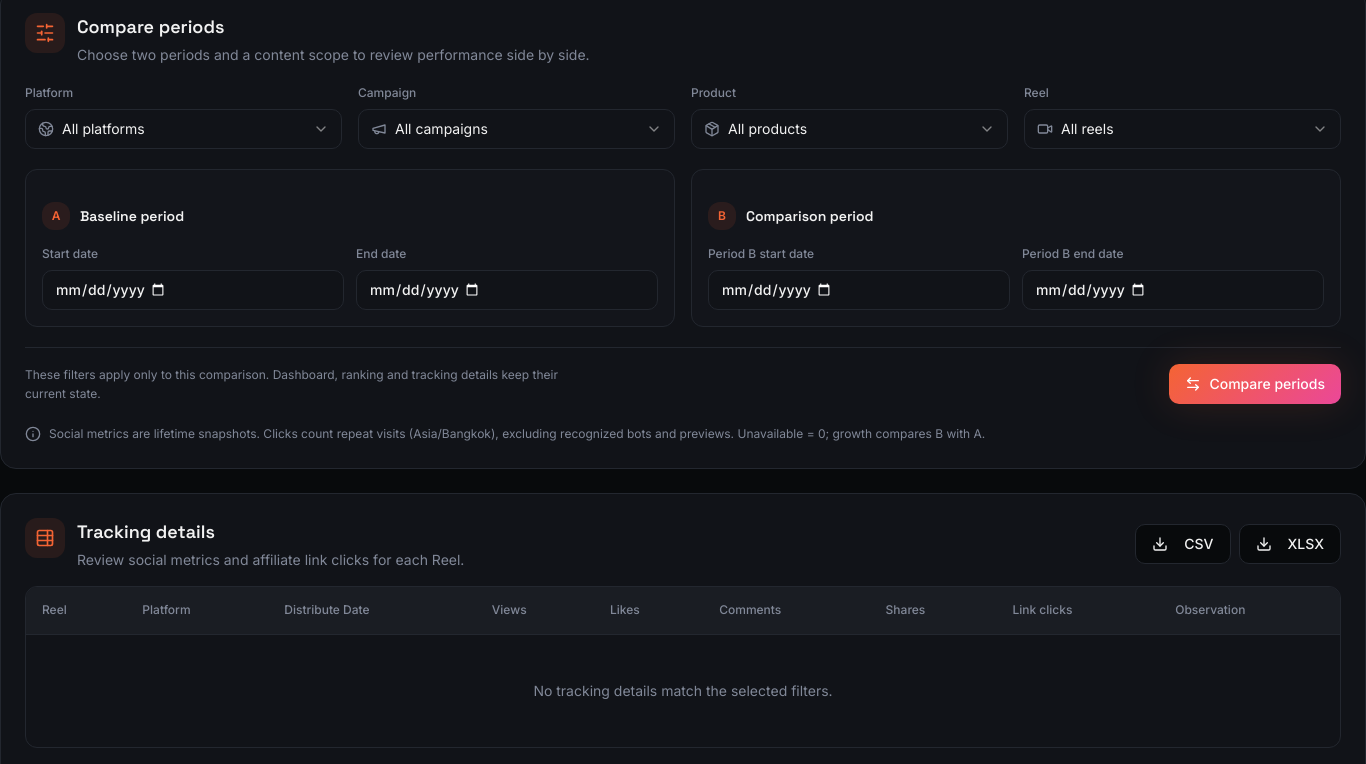
Test: validates both periods in the comparison filters before making a comparison request
This screenshot has width=1366, height=764.
(page scrolled)
Expected: the heading "Tracking details" is shown, x1=77 y1=520 x2=215 y2=542
Expected: the date field labelled "Period B start date" is shown, x1=708 y1=270 x2=1010 y2=310
Click the button "Compare periods": (1255, 384) x1=1169 y1=364 x2=1341 y2=404
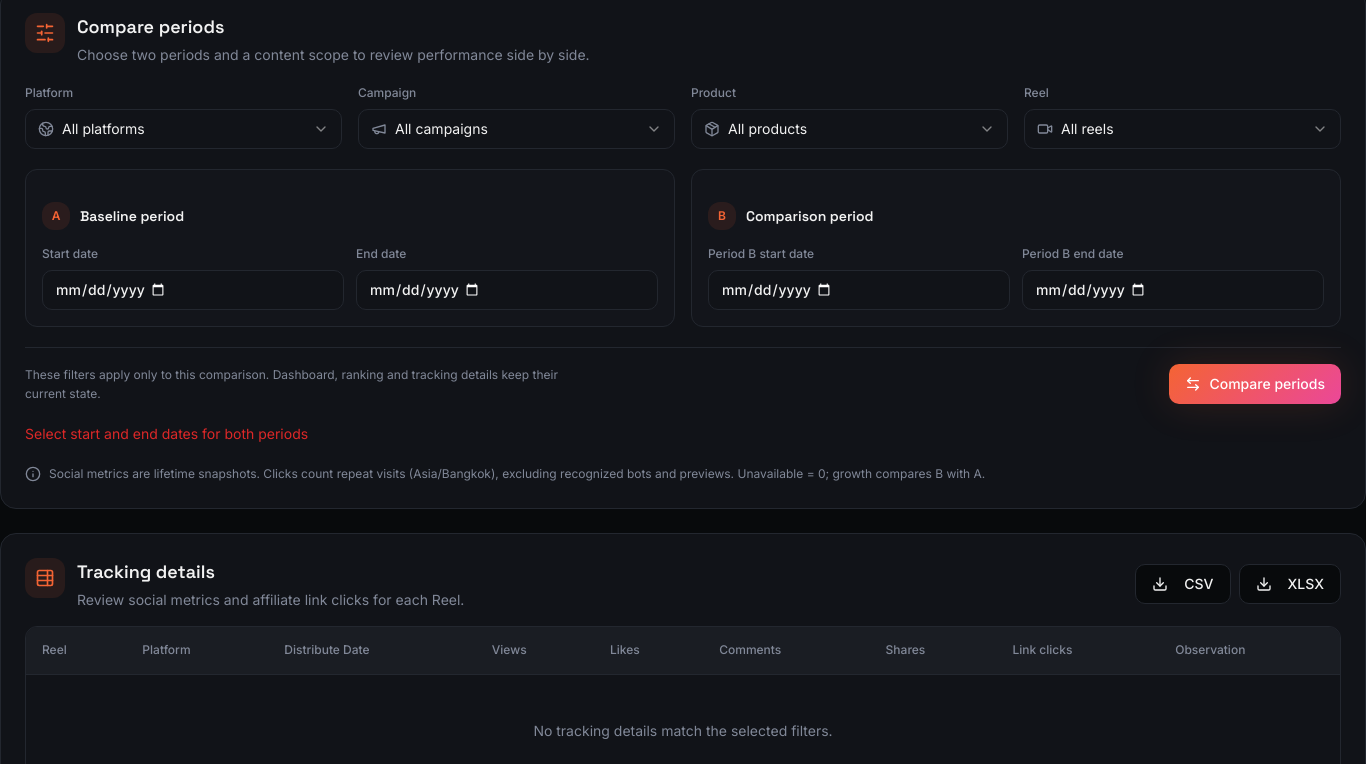
Now the message reads "Select start and end dates for both periods", box x1=25 y1=425 x2=308 y2=442
In the date field labelled "Start date": (193, 290) x1=42 y1=270 x2=344 y2=310, type "2026-01-01"
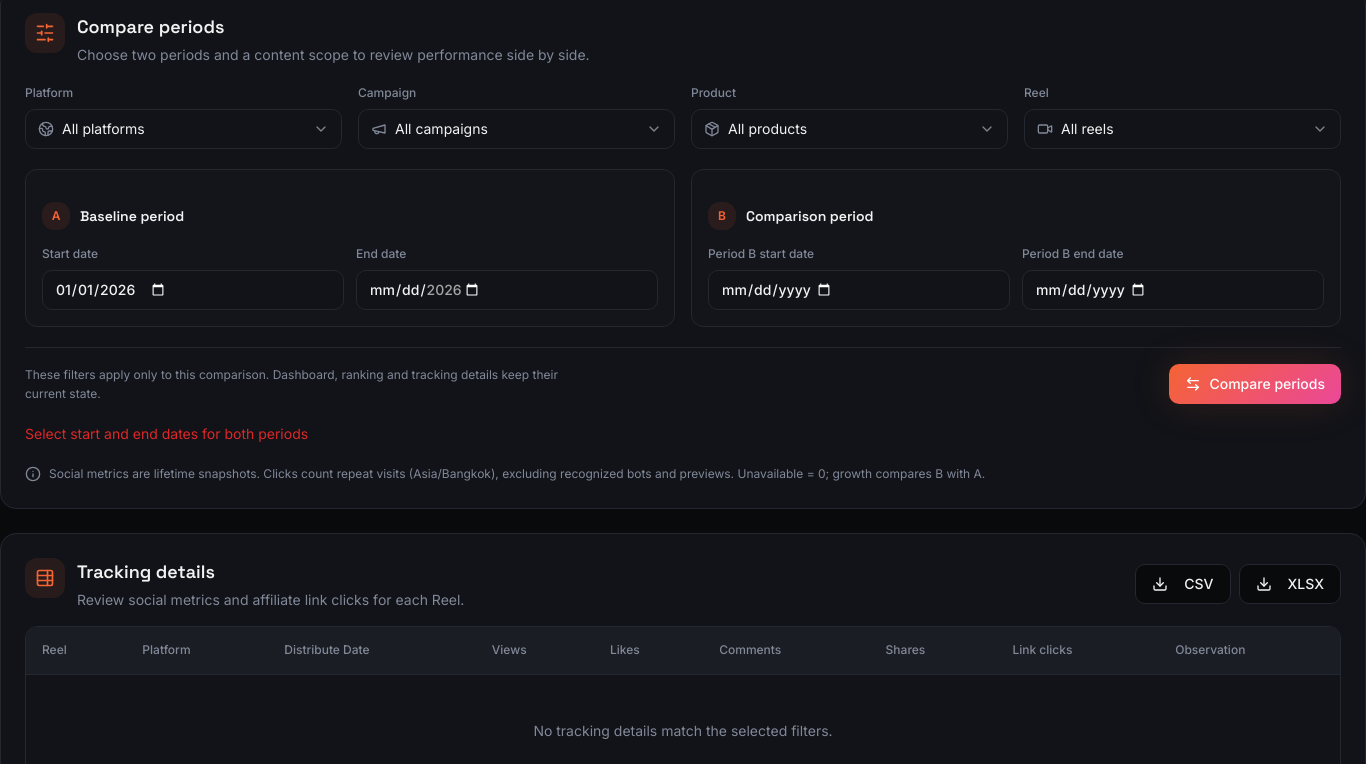
In the date field labelled "End date": (507, 290) x1=356 y1=270 x2=658 y2=310, type "2026-01-07"
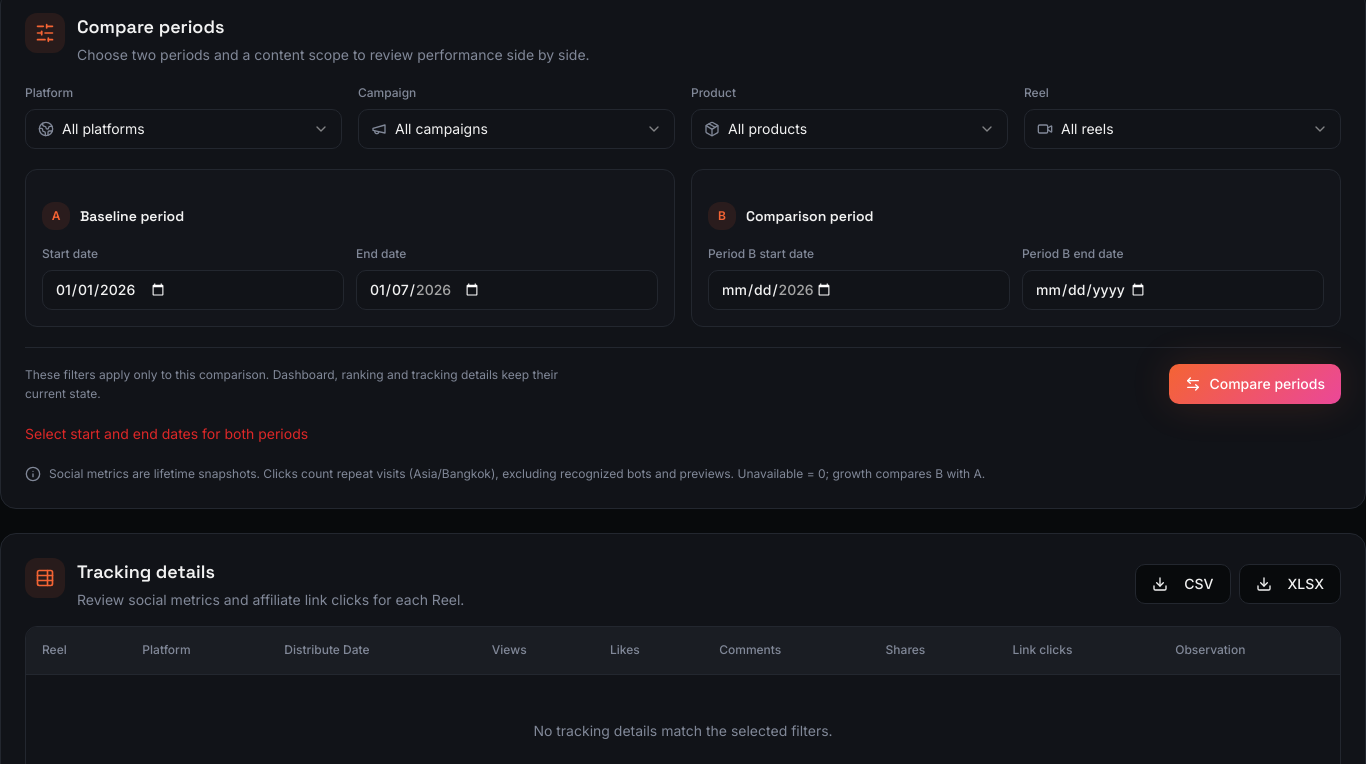
In the date field labelled "Period B start date": (859, 290) x1=708 y1=270 x2=1010 y2=310, type "2026-01-14"
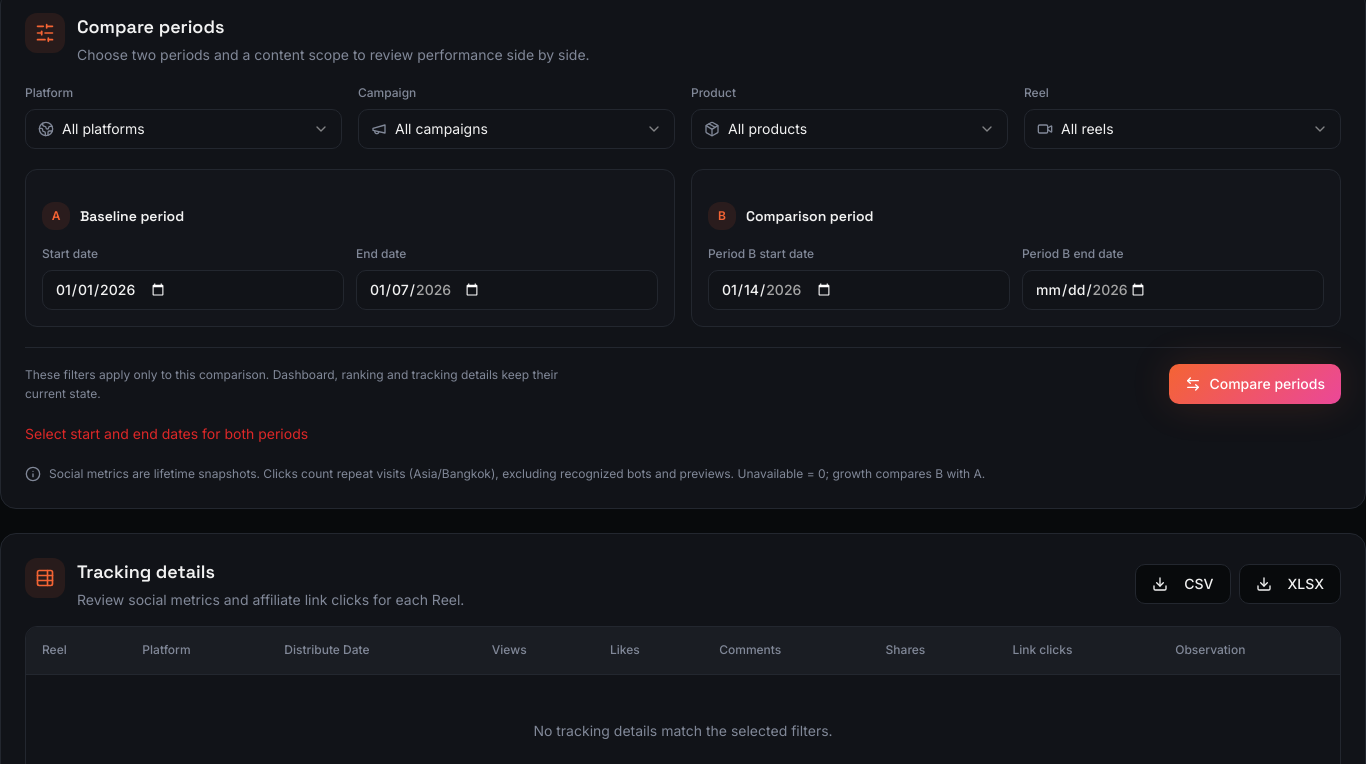
In the date field labelled "Period B end date": (1173, 290) x1=1022 y1=270 x2=1324 y2=310, type "2026-01-08"
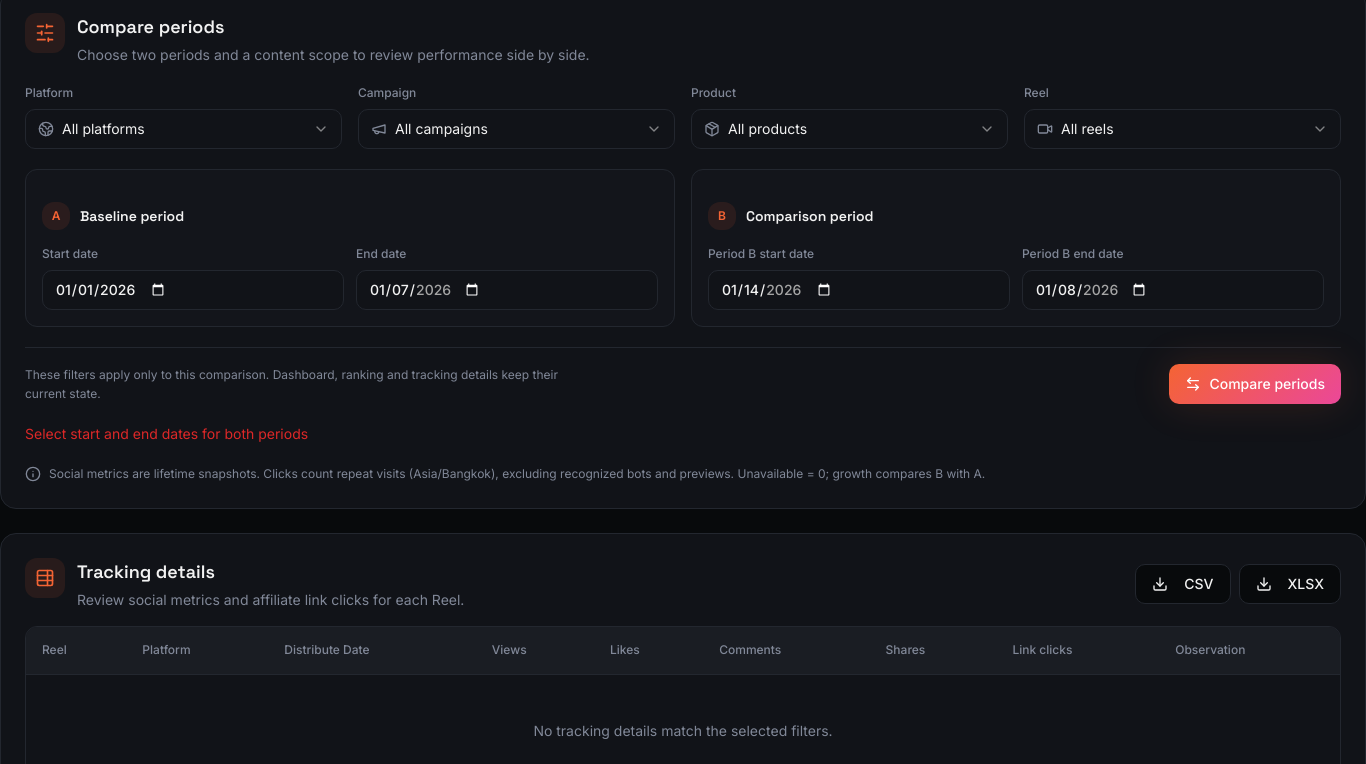
Click the button "Compare periods": (1255, 384) x1=1169 y1=364 x2=1341 y2=404
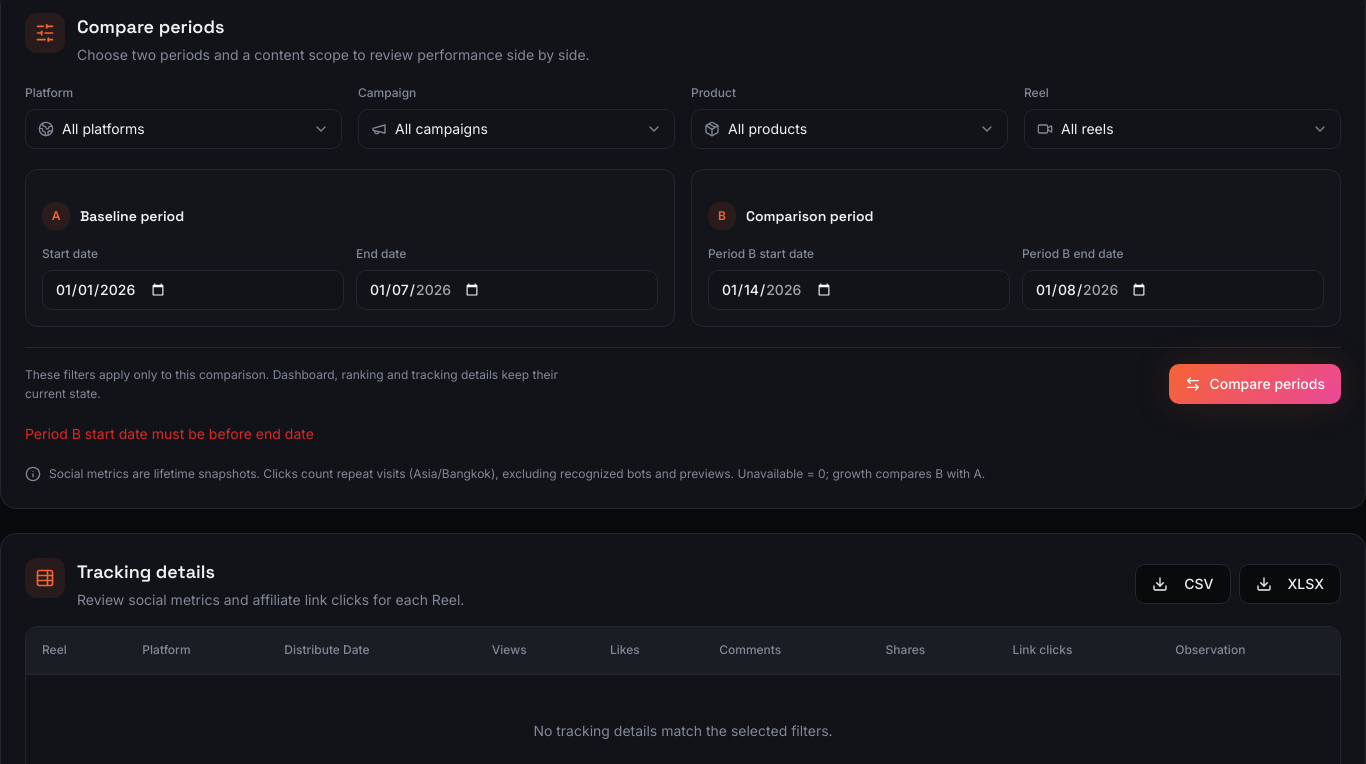
Now the message reads "Period B start date must be before end date", box x1=25 y1=425 x2=314 y2=442
